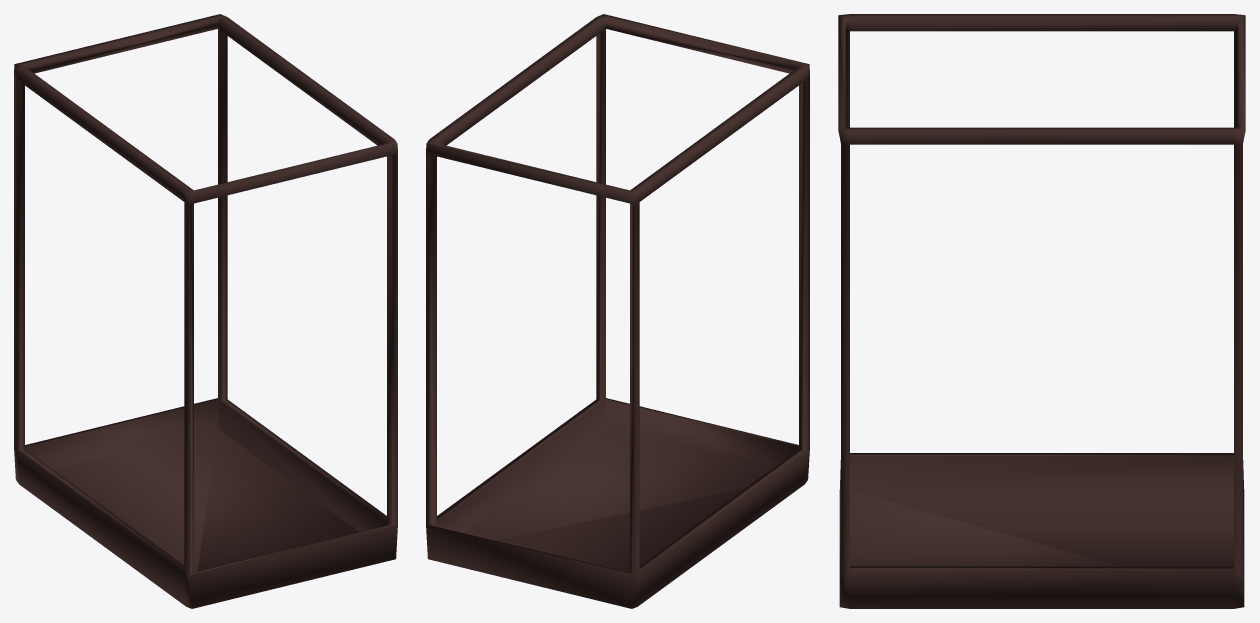
The model's file is Vivarium.fbx.
The picture shows the model from 3 angles, left to right: view 1: azimuth 30°, elevation 25°; view 2: azimuth 150°, elevation 25°; view 3: azimuth 270°, elevation 25°; orthographic projection. The views are drawn at different scales.
Visible parts, largest first — view 1: Vivarium; view 2: Vivarium; view 3: Vivarium.
Boxes of the visible parts, x1,y1,x2,y2 form: Vivarium: (14, 14, 397, 608); Vivarium: (426, 14, 809, 608); Vivarium: (838, 14, 1245, 608).
Size of the model in its own units: 108 by 204 by 158.
